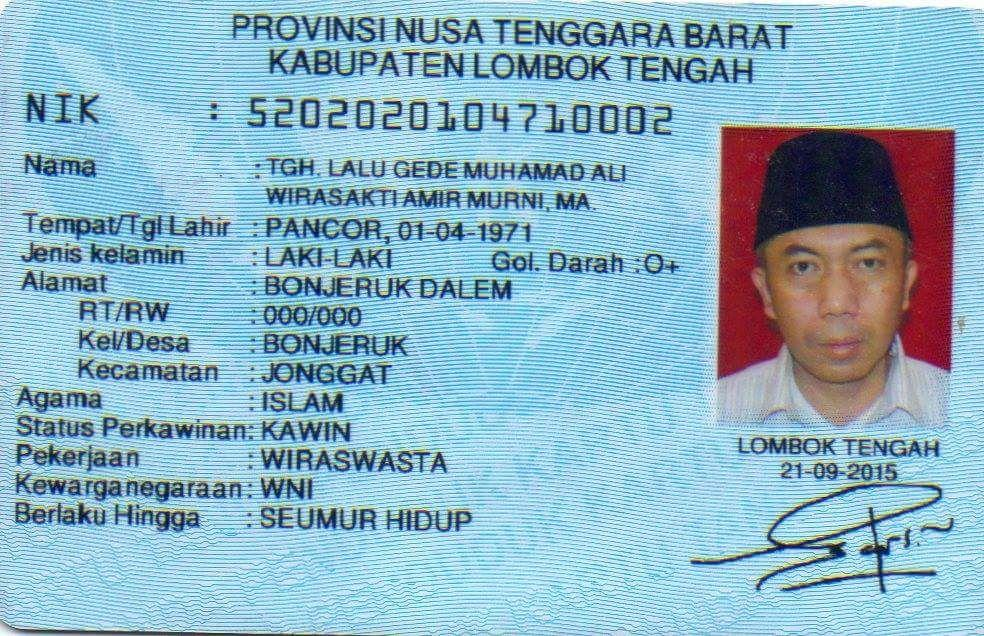ID-card: (2, 7, 982, 628)
